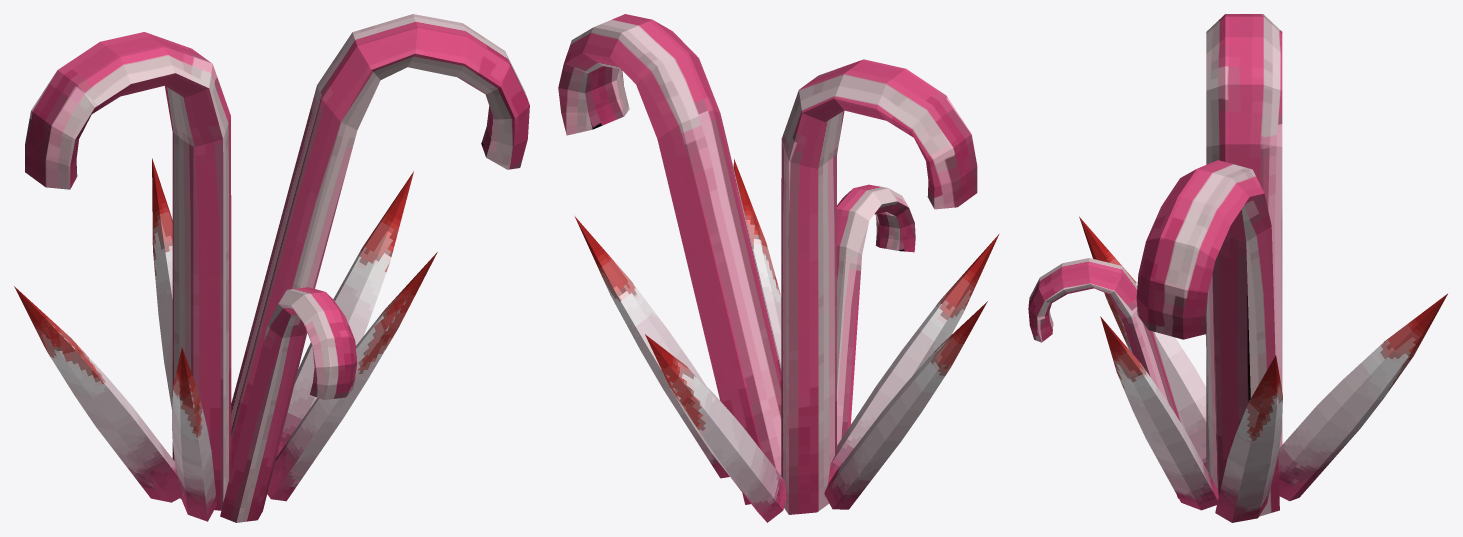
The model's file is CandyTrap.fbx.
3 views of the same model, side by side, from view 1: azimuth 30°, elevation 25°; view 2: azimuth 150°, elevation 25°; view 3: azimuth 270°, elevation 25° (orthographic). The views are drawn at different scales.
Parts seen in each view (by area): view 1: Cylinder.001, Cylinder.002, Cylinder.003, Cylinder.004, Cylinder.007, Cylinder.008, Cylinder.005, Cylinder.006; view 2: Cylinder.002, Cylinder.001, Cylinder.003, Cylinder.006, Cylinder.004, Cylinder.005, Cylinder.008, Cylinder.007; view 3: Cylinder.002, Cylinder.001, Cylinder.006, Cylinder.007, Cylinder.003, Cylinder.008, Cylinder.005.
Part boxes in pixels (x1,y1,x2,y2): Cylinder.001: (25, 32, 231, 510); Cylinder.002: (231, 14, 529, 469); Cylinder.003: (220, 287, 357, 522); Cylinder.004: (14, 286, 182, 502); Cylinder.007: (267, 252, 437, 501); Cylinder.008: (276, 171, 413, 456); Cylinder.005: (172, 347, 216, 521); Cylinder.006: (152, 158, 172, 409); Cylinder.002: (558, 14, 781, 504); Cylinder.001: (781, 59, 977, 514); Cylinder.003: (837, 184, 915, 445); Cylinder.006: (645, 334, 786, 522); Cylinder.004: (824, 301, 987, 509); Cylinder.005: (827, 234, 999, 485); Cylinder.008: (574, 216, 729, 478); Cylinder.007: (733, 159, 781, 365); Cylinder.002: (1136, 160, 1279, 516); Cylinder.001: (1206, 14, 1282, 474); Cylinder.006: (1278, 293, 1447, 501); Cylinder.007: (1100, 316, 1218, 510); Cylinder.003: (1028, 258, 1184, 498); Cylinder.008: (1215, 355, 1282, 522); Cylinder.005: (1079, 216, 1206, 467).
Bounding box in the file's own units: 262 × 248 × 218.
8 materials, 8 textured.
